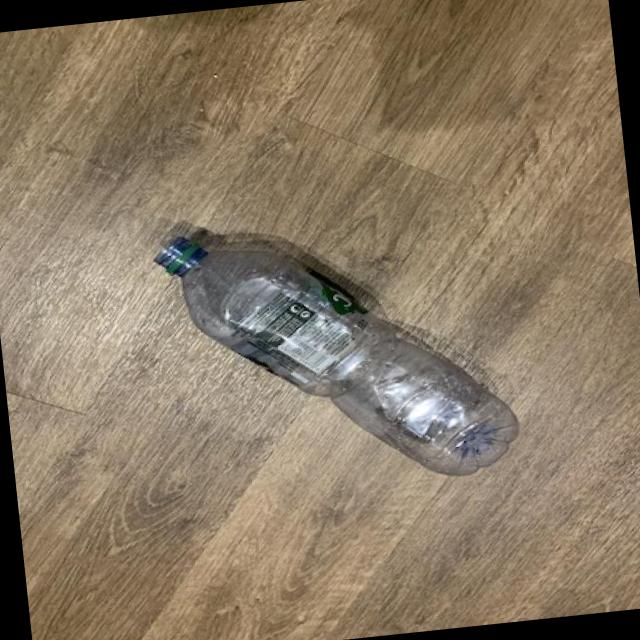plastic_bottle: (152, 203, 524, 507)
